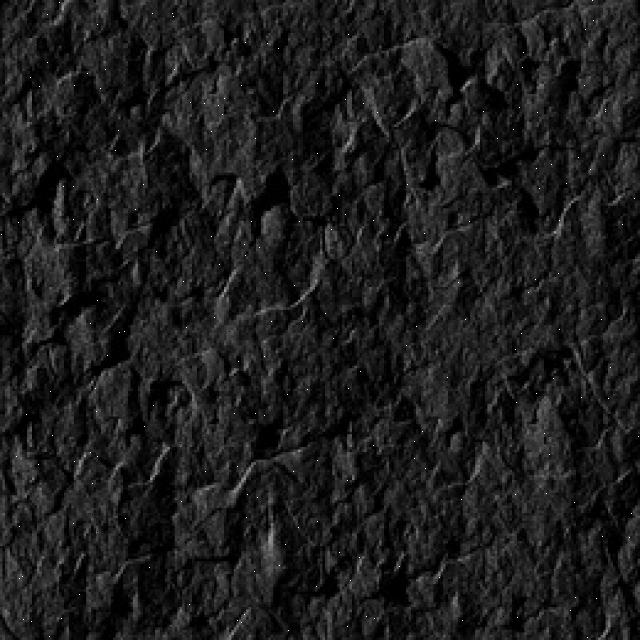Sedimentary: (2, 2, 640, 638)
